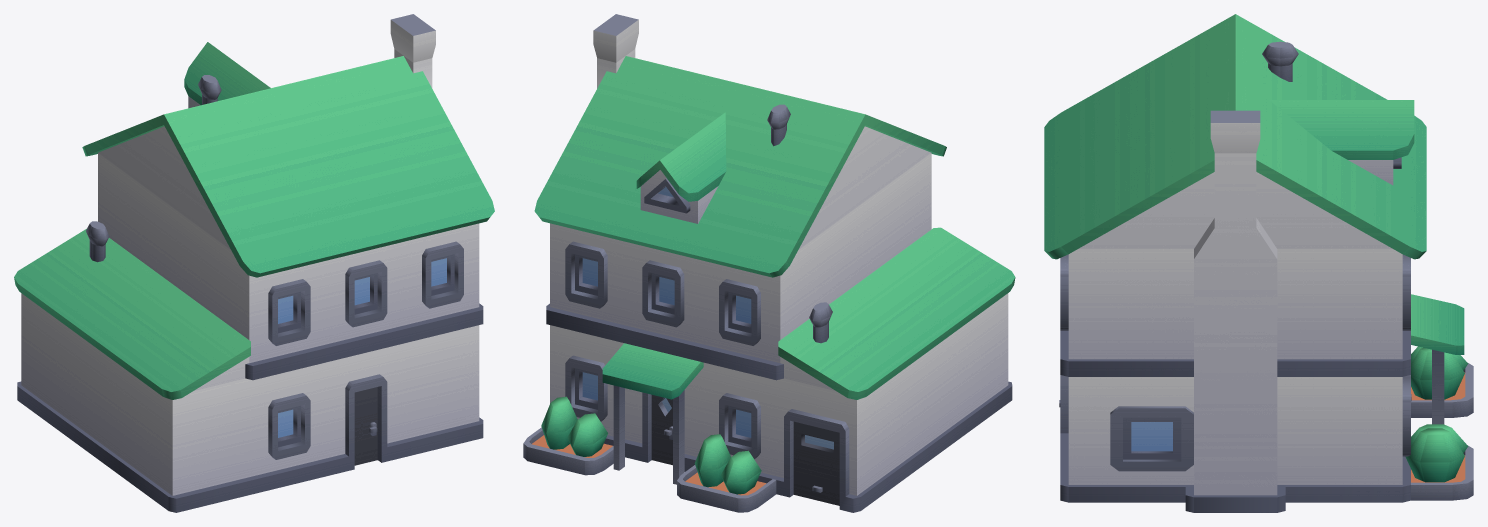
The model's file is house_d.glb.
3 renders of one model, left to right at view 1: azimuth 30°, elevation 25°; view 2: azimuth 150°, elevation 25°; view 3: azimuth 270°, elevation 25°, orthographic. The views are drawn at different scales.
Parts seen in each view (by area): view 1: building-type-d; view 2: building-type-d; view 3: building-type-d.
Boxes of the visible parts, bbox=[...] form: building-type-d: bbox=[14, 14, 494, 512]; building-type-d: bbox=[523, 14, 1015, 512]; building-type-d: bbox=[1044, 14, 1473, 512].
Bounding box in the file's own units: 15 × 15 × 15.
Materials: 1 (1 with a texture image).
